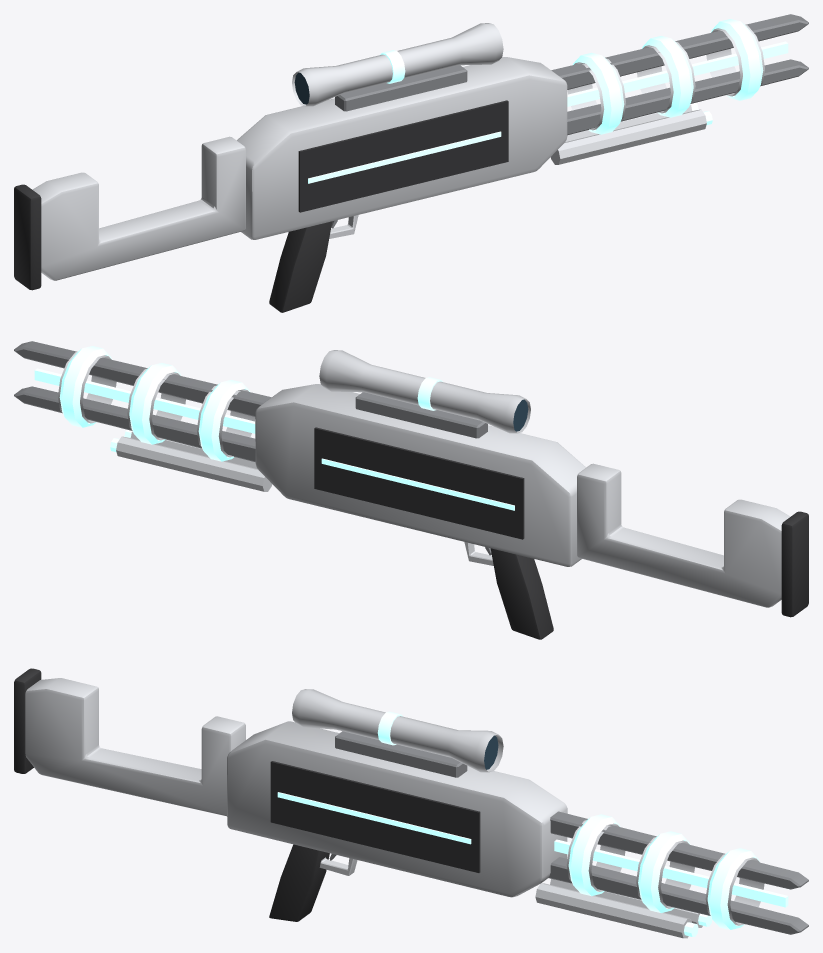
File: w_rail.glb
3 renders of one model, top to bottom at view 1: azimuth 30°, elevation 25°; view 2: azimuth 150°, elevation 25°; view 3: azimuth 330°, elevation 25°, orthographic.
Visible parts, largest first — view 1: W_rail; view 2: W_rail; view 3: W_rail.
Part boxes in pixels (box(x1,y1,x2,y2)): W_rail: box(14, 14, 808, 312); W_rail: box(14, 341, 808, 639); W_rail: box(14, 668, 808, 938).
Bounding box in the file's own units: 1.02 × 0.2885 × 0.092.
